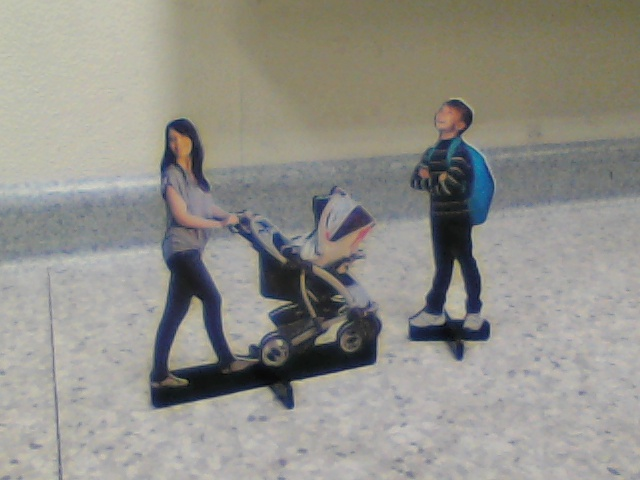human: (151, 107, 380, 390), (405, 97, 495, 329)
